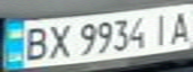3: (112, 16, 133, 53)
4: (127, 14, 151, 50)
9: (93, 18, 115, 56), (75, 19, 96, 57)
A: (166, 7, 193, 45)
B: (18, 24, 54, 63)
I: (148, 9, 175, 46)
X: (42, 21, 72, 61)
